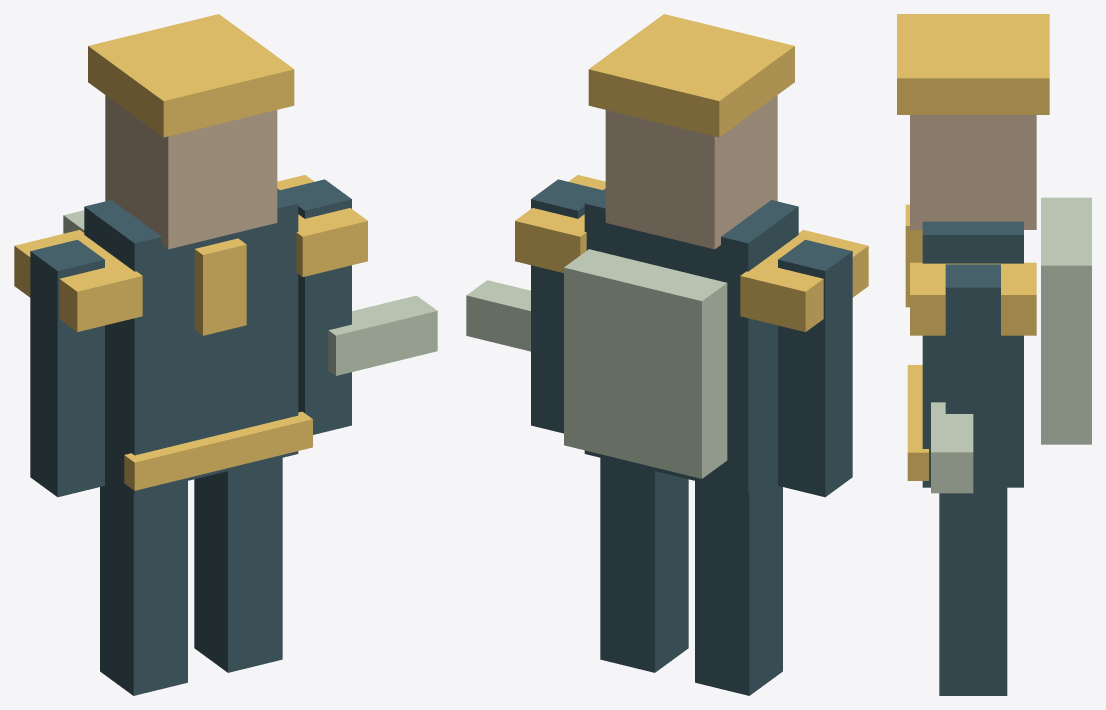
The model's file is 17_vela_cragwarden_cartographer_under_vine.glb.
3 views of the same model, side by side, from view 1: azimuth 30°, elevation 25°; view 2: azimuth 150°, elevation 25°; view 3: azimuth 270°, elevation 25° (orthographic).
Parts seen in each view (by area): view 1: Vela Cragwarden, Cartographer under Vine; view 2: Vela Cragwarden, Cartographer under Vine; view 3: Vela Cragwarden, Cartographer under Vine.
Boxes of the visible parts, box(x1,y1,x2,y2) form: Vela Cragwarden, Cartographer under Vine: box(14, 14, 437, 695); Vela Cragwarden, Cartographer under Vine: box(466, 14, 868, 695); Vela Cragwarden, Cartographer under Vine: box(897, 14, 1091, 695).
Bounding box in the file's own units: 1.03 × 1.61 × 0.4629.
